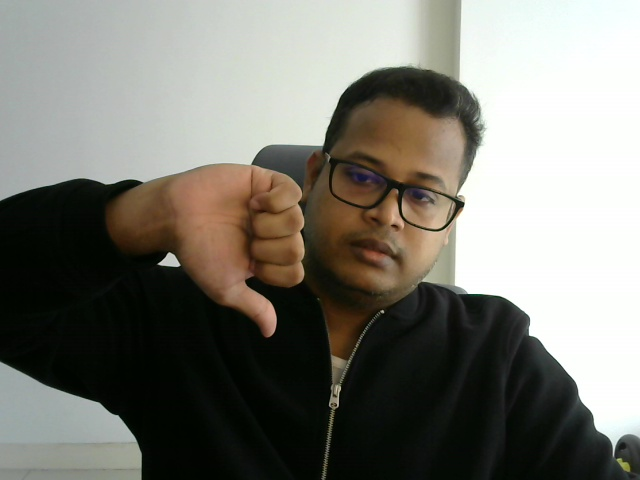ThumbsDown: (166, 163, 305, 338)
